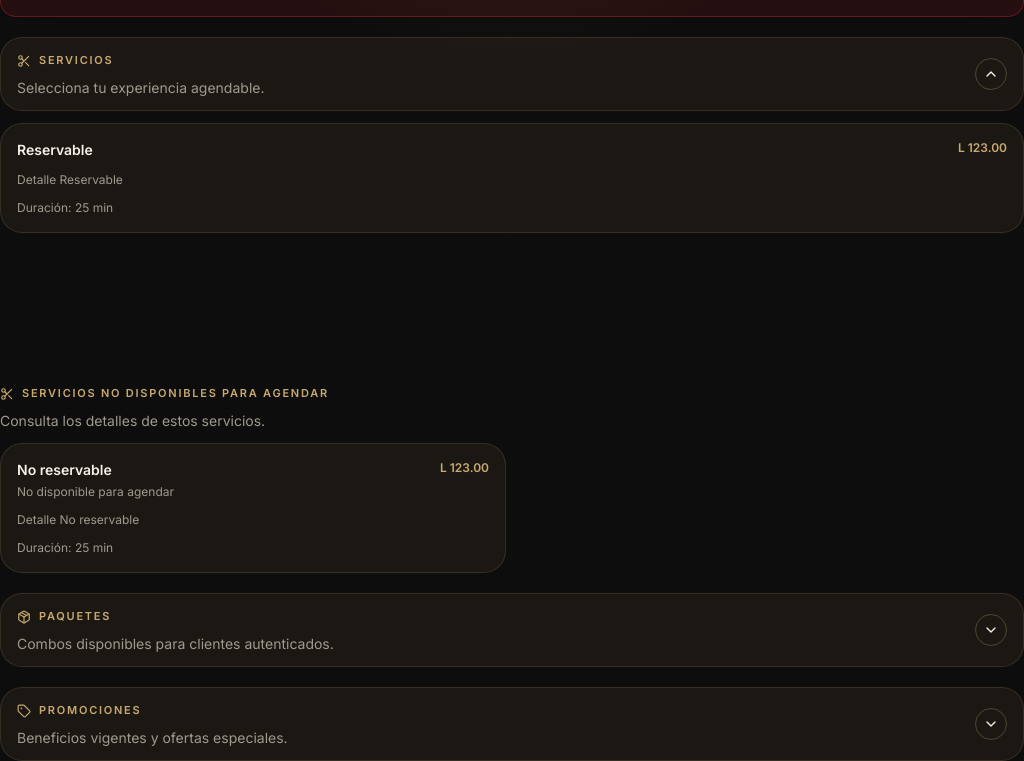
Scenario: fallo Paquetes conserva Servicios y Promociones; no muestra vacio legitimo
The width and height of the screenshot is (1024, 761).
(page scrolled)
Expected: the text "Reservable" is shown, [17, 140, 93, 160]
Expected: the text "No reservable" is shown, [17, 460, 112, 478]
Click the button "Paquetes Combos disponibles para clientes autenticados.": point(75, 616) [0, 592, 1023, 666]
(page scrolled)
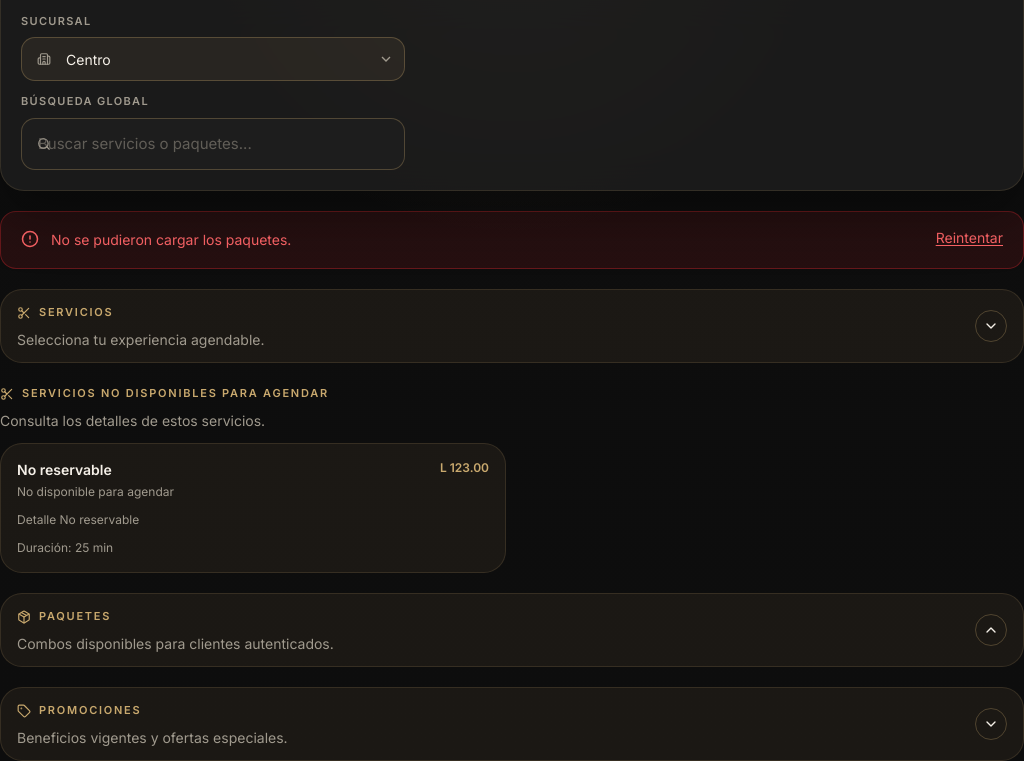
Click the button "Promociones Beneficios vigentes y ofertas especiales.": point(90, 710) [0, 686, 1023, 760]
(page scrolled)
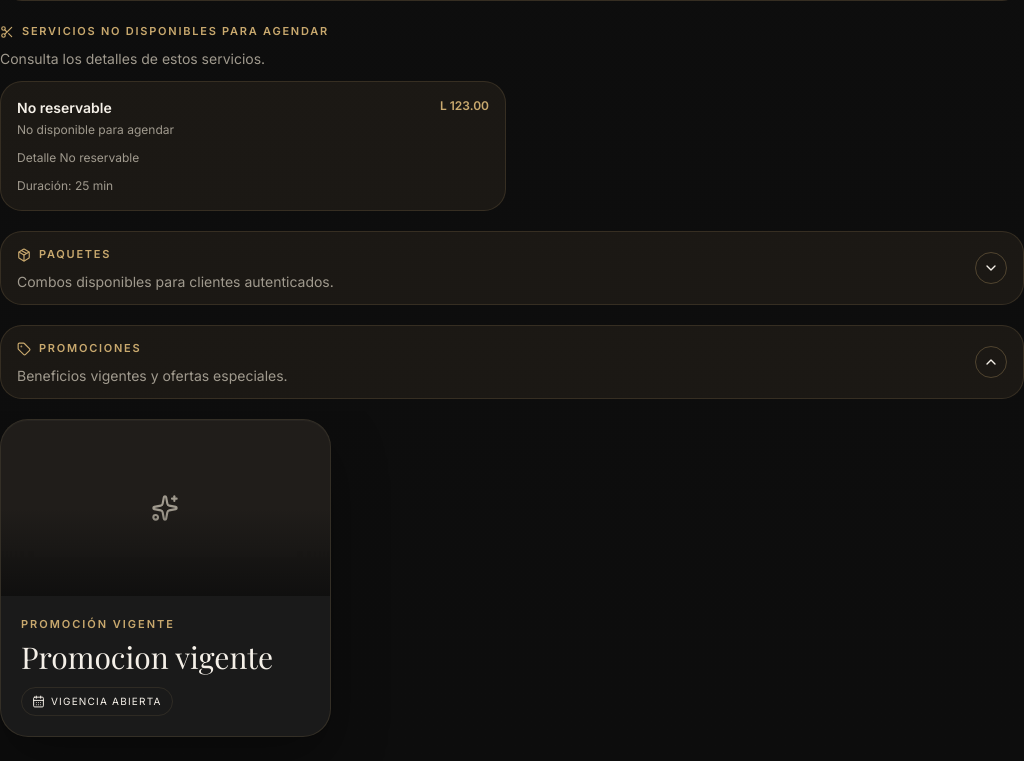
Result: the heading "Promocion vigente" is shown at [21, 644, 310, 671]
